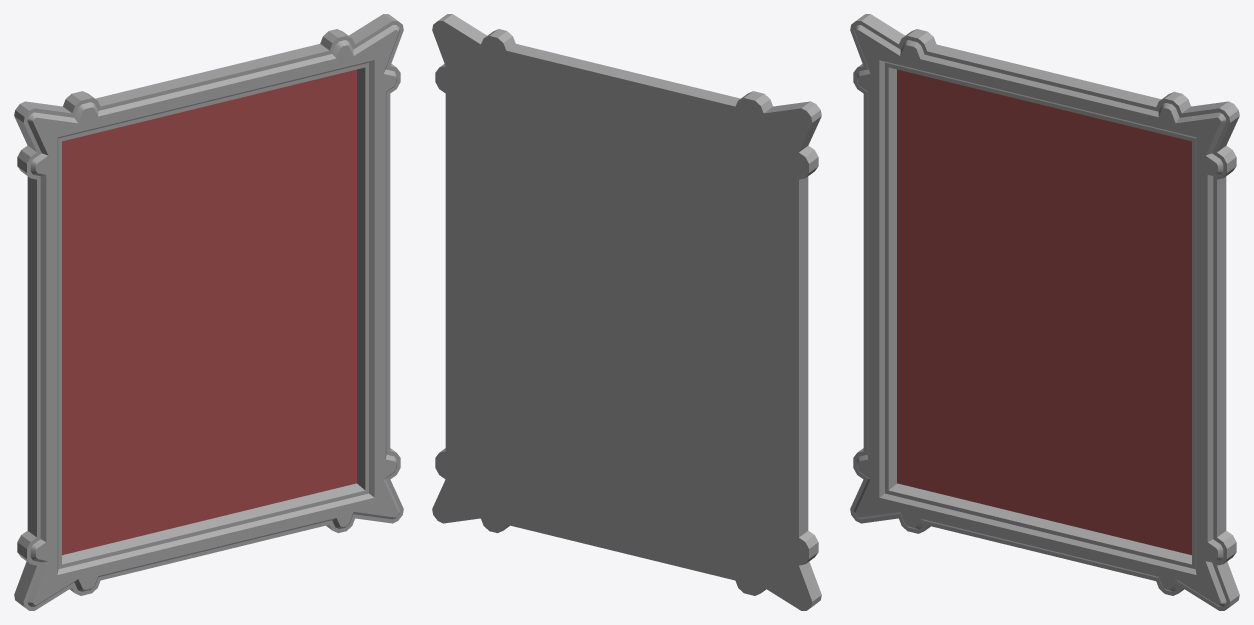
Rendered from frame2_5-2-20.fbx.
3 views of the same model, side by side, from view 1: azimuth 30°, elevation 25°; view 2: azimuth 150°, elevation 25°; view 3: azimuth 330°, elevation 25° (orthographic).
Visible parts, largest first — view 1: pCube2; view 2: pCube2; view 3: pCube2.
Part boxes in pixels (x1,y1,x2,y2): pCube2: (14, 14, 403, 610); pCube2: (432, 14, 821, 610); pCube2: (850, 14, 1239, 610).
Size of the model in its own units: 95.46 by 121 by 5.1.
